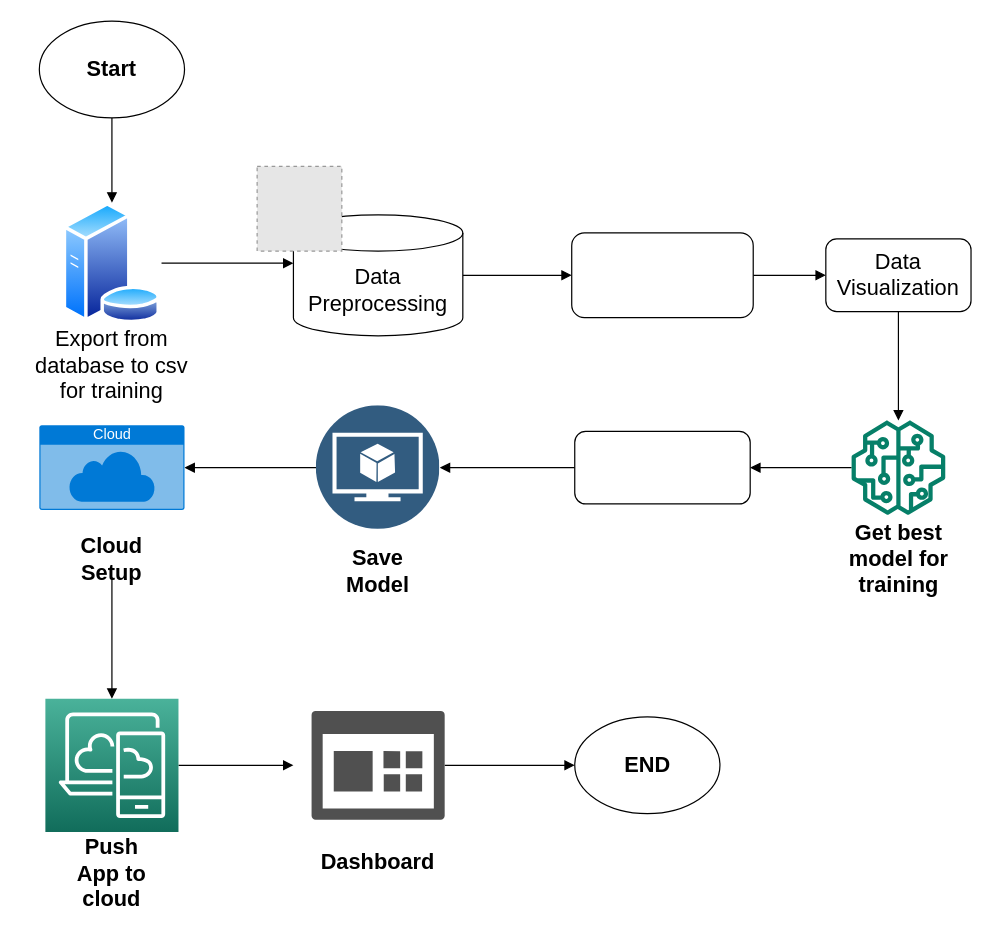
Some shapes in this 992 by 934 pixel diagram are drawn without their labels. Grey dashed boxes stand in for pictures. Each missing label, with the box of its shape:
Handled the missing values: (571, 232, 753, 318)
HyperParameter Tuning: (574, 430, 750, 504)
